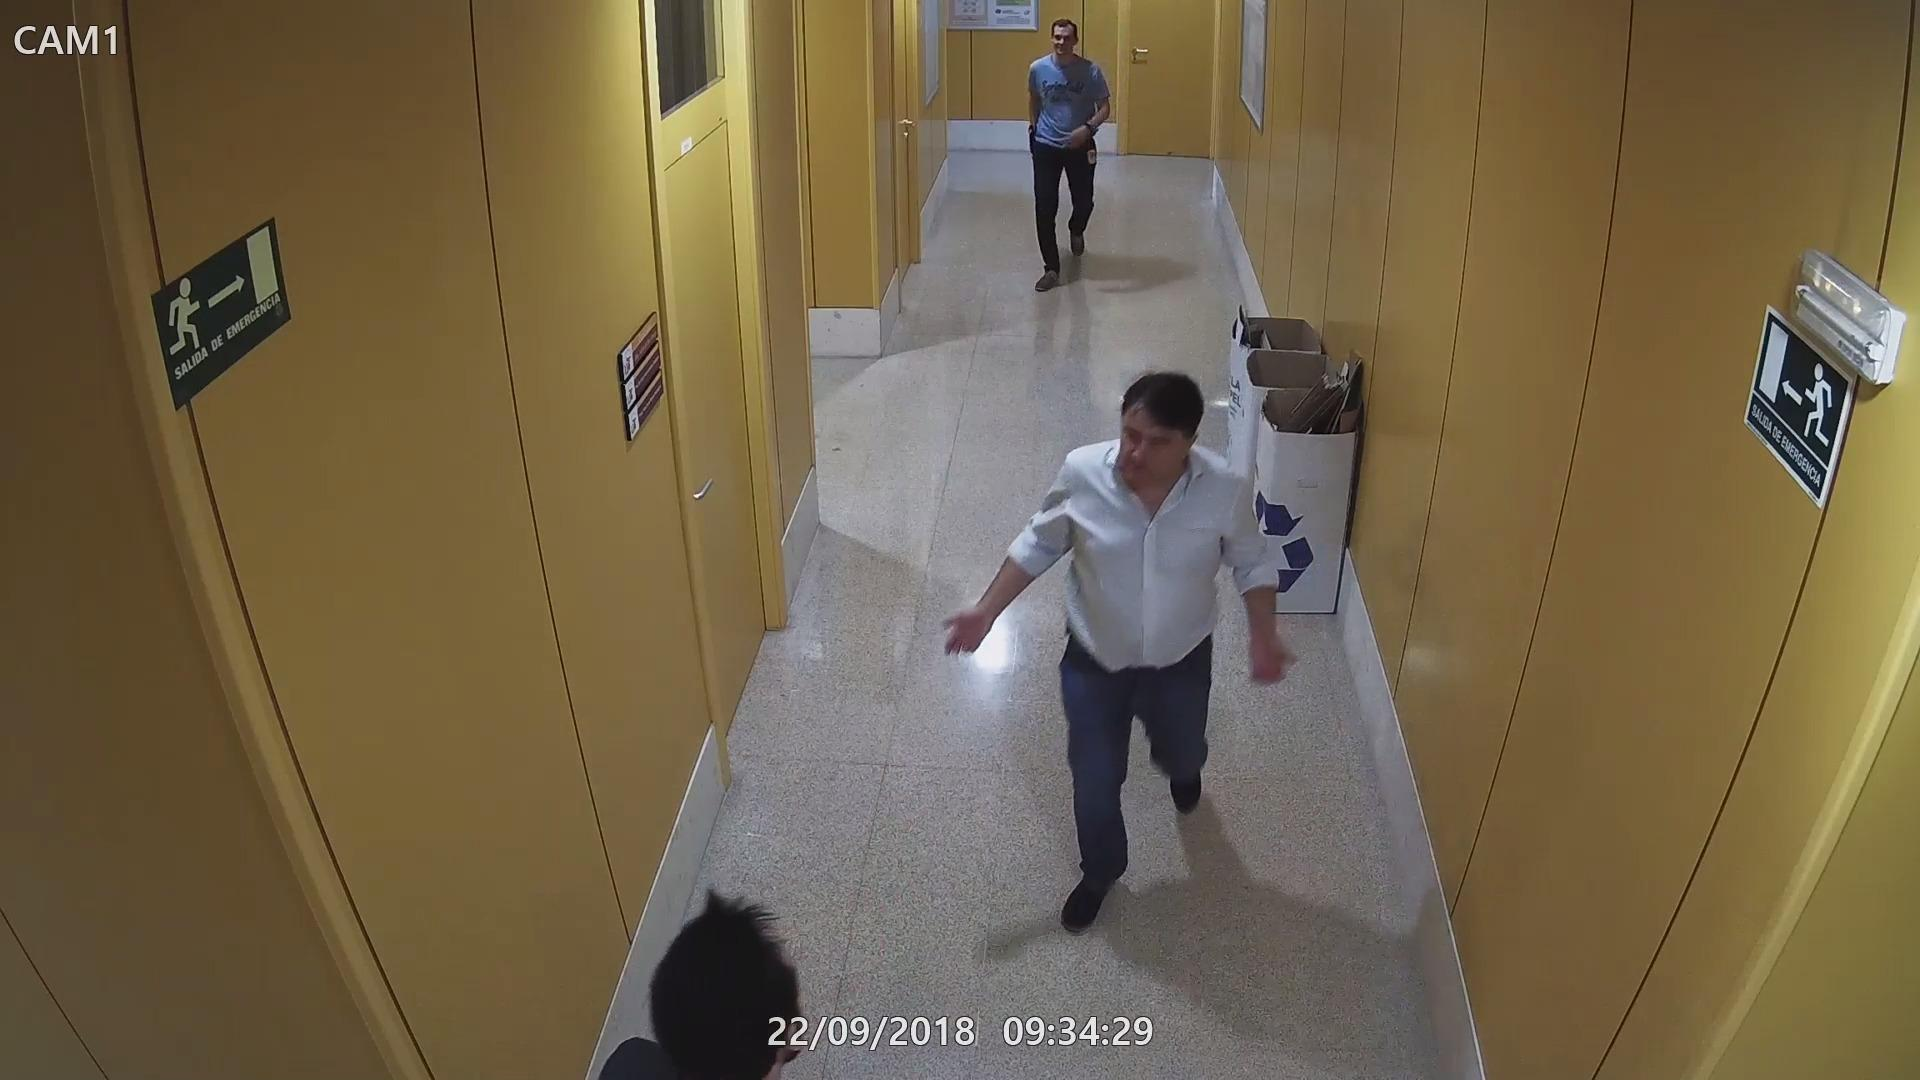Handgun: (1021, 123, 1035, 145)
